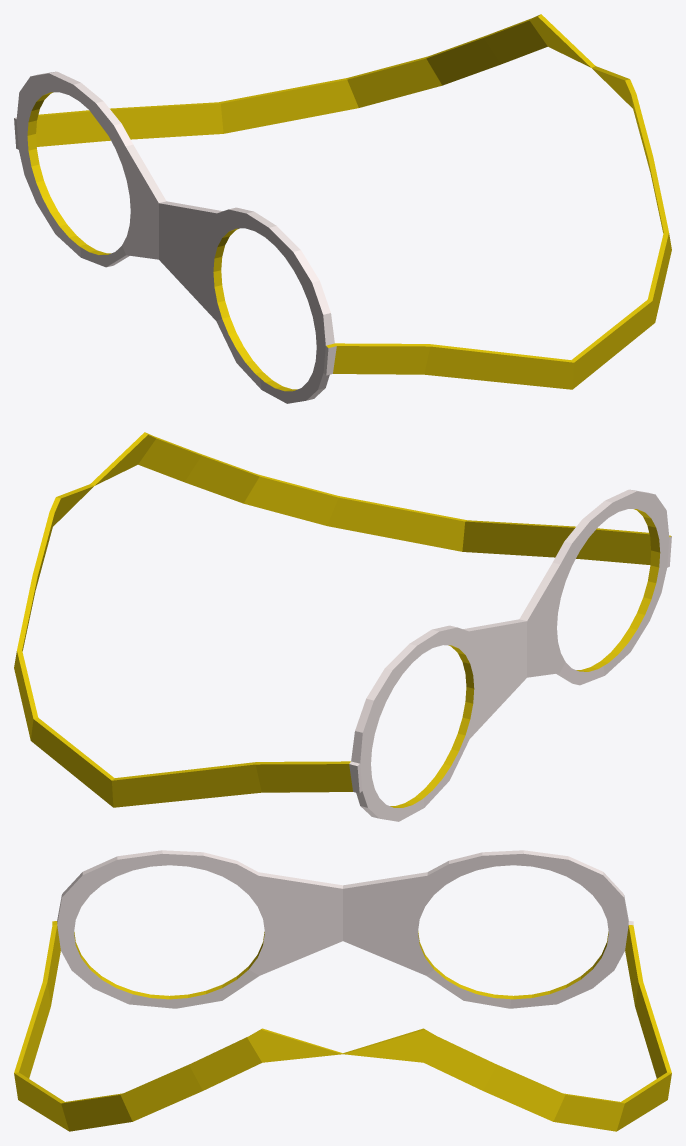
Rendered from swimmingGoogles.fbx.
3 views of the same model, one above another, from view 1: azimuth 30°, elevation 25°; view 2: azimuth 150°, elevation 25°; view 3: azimuth 270°, elevation 25° (orthographic). The views are drawn at different scales.
Parts seen in each view (by area): view 1: Plane.001; view 2: Plane.001; view 3: Plane.001.
Boxes of the visible parts, box(x1,y1,x2,y2) form: Plane.001: box(14, 14, 671, 403); Plane.001: box(14, 432, 671, 821); Plane.001: box(14, 850, 671, 1131).
Size of the model in its own units: 34.71 by 13.37 by 48.95.
